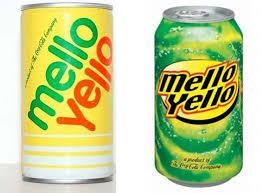Aluminum can: (15, 6, 118, 190), (151, 5, 248, 192)
